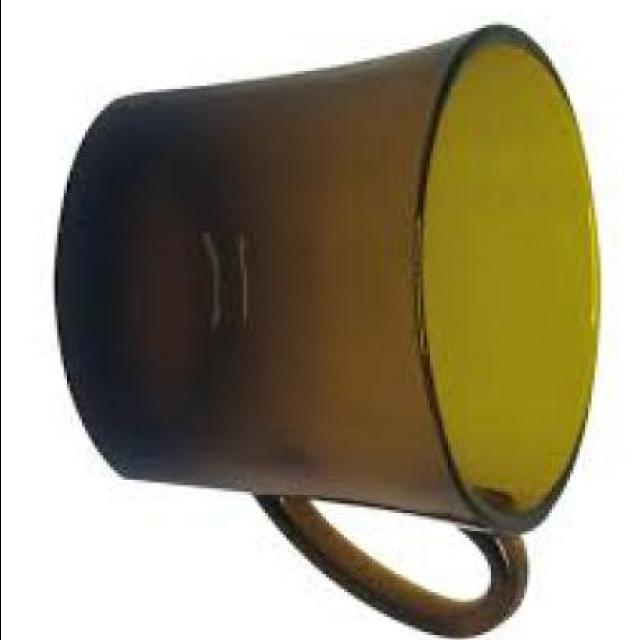kaca: (59, 18, 602, 635)
